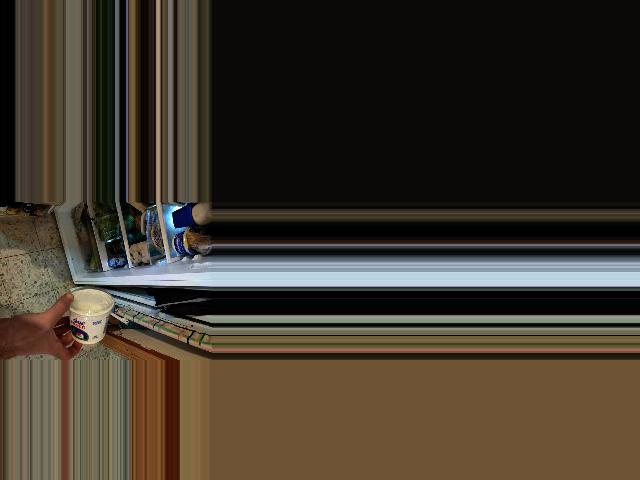cotage: (65, 288, 109, 343)
